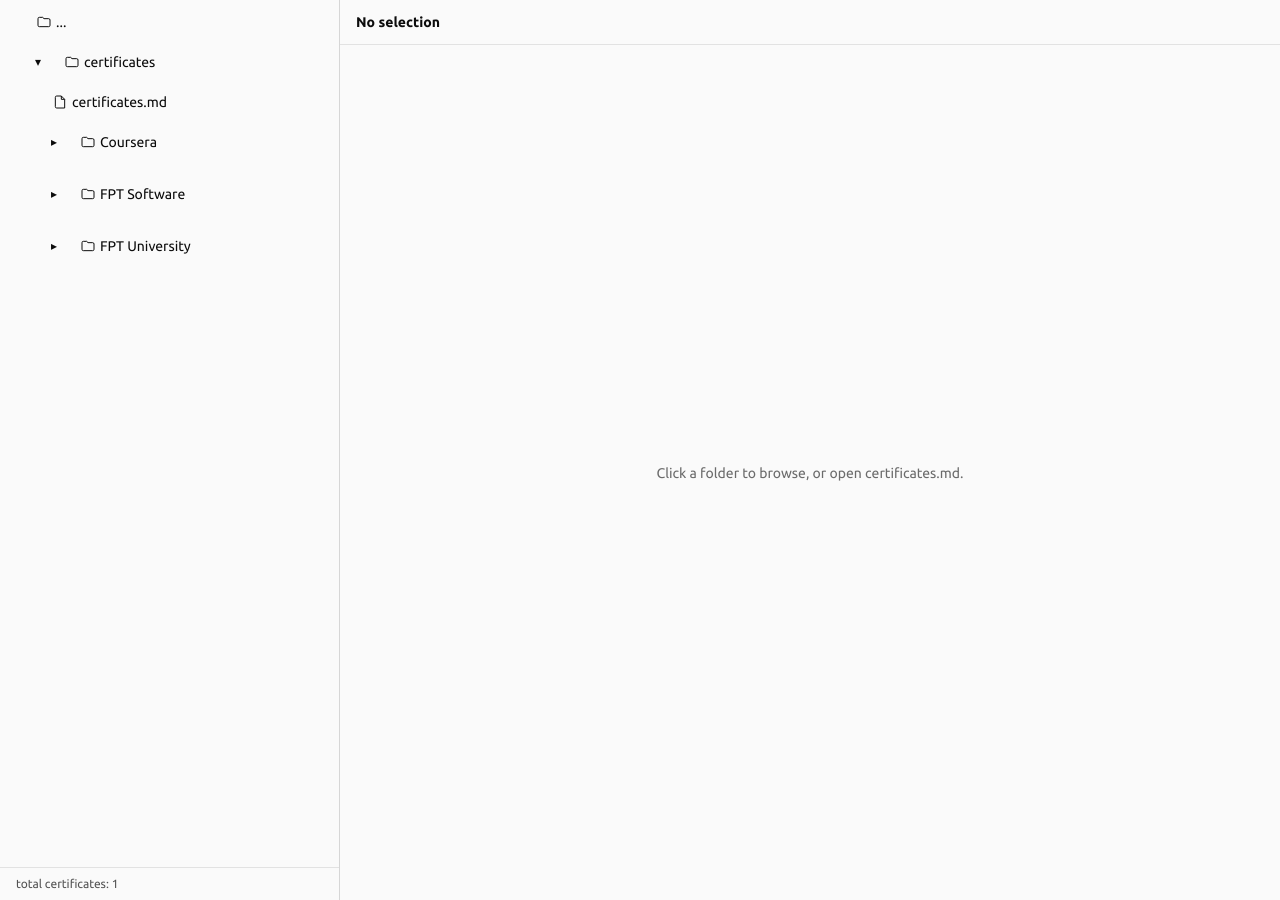
Test: CertificatesExplorerPageClient › toggles category by arrow click
What coordinates should you click on to do the following:
click the button named "Expand Coursera"
I would click on:
 (54, 142)
Its box is [32, 120, 76, 164].
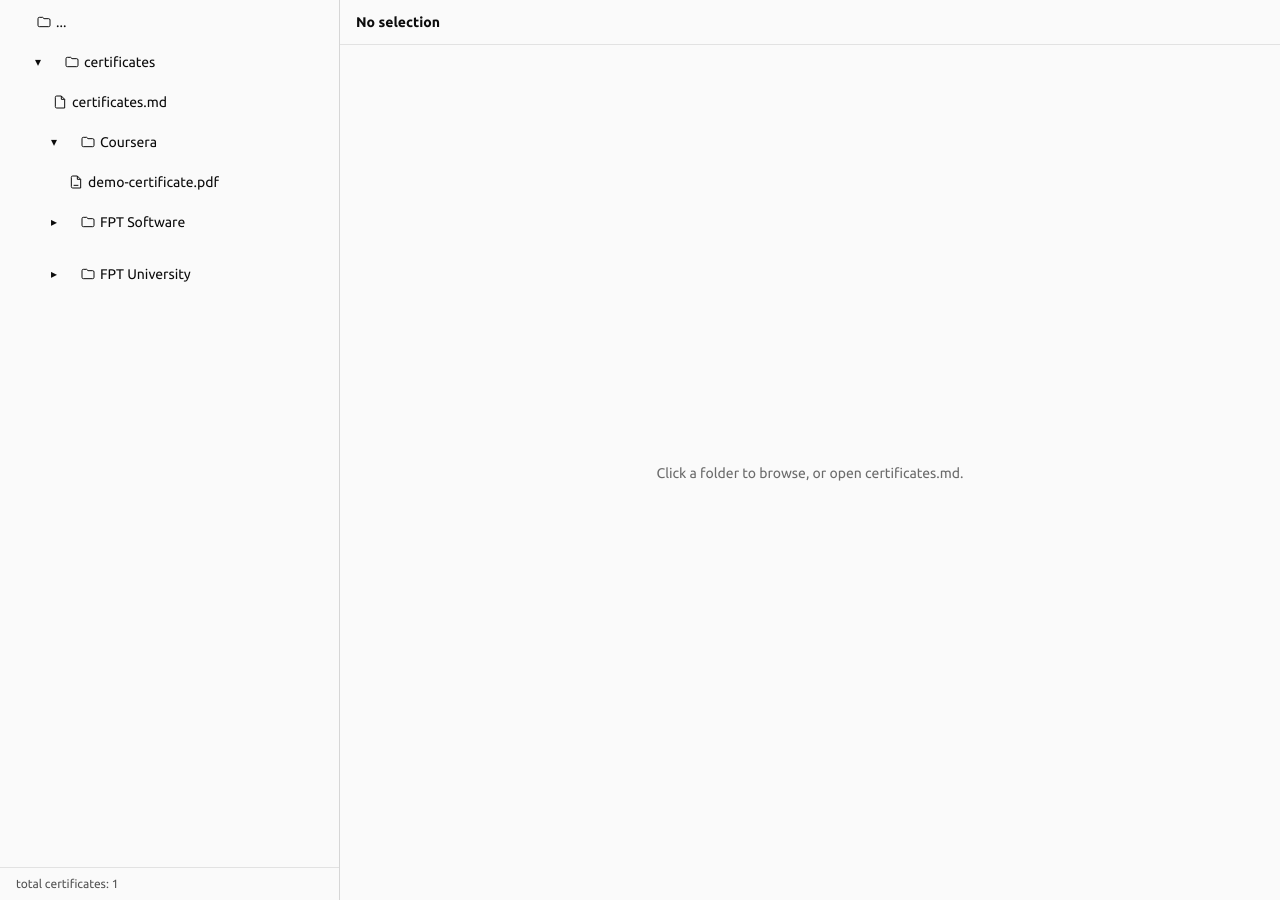
Expected: the list item "demo-certificate.pdf" is shown, [68, 174, 219, 190]
